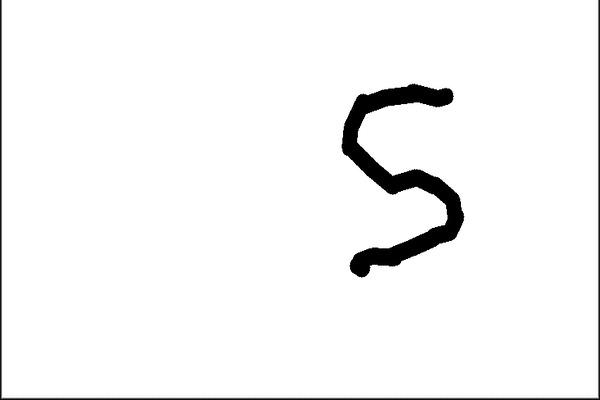S: (330, 78, 475, 284)
